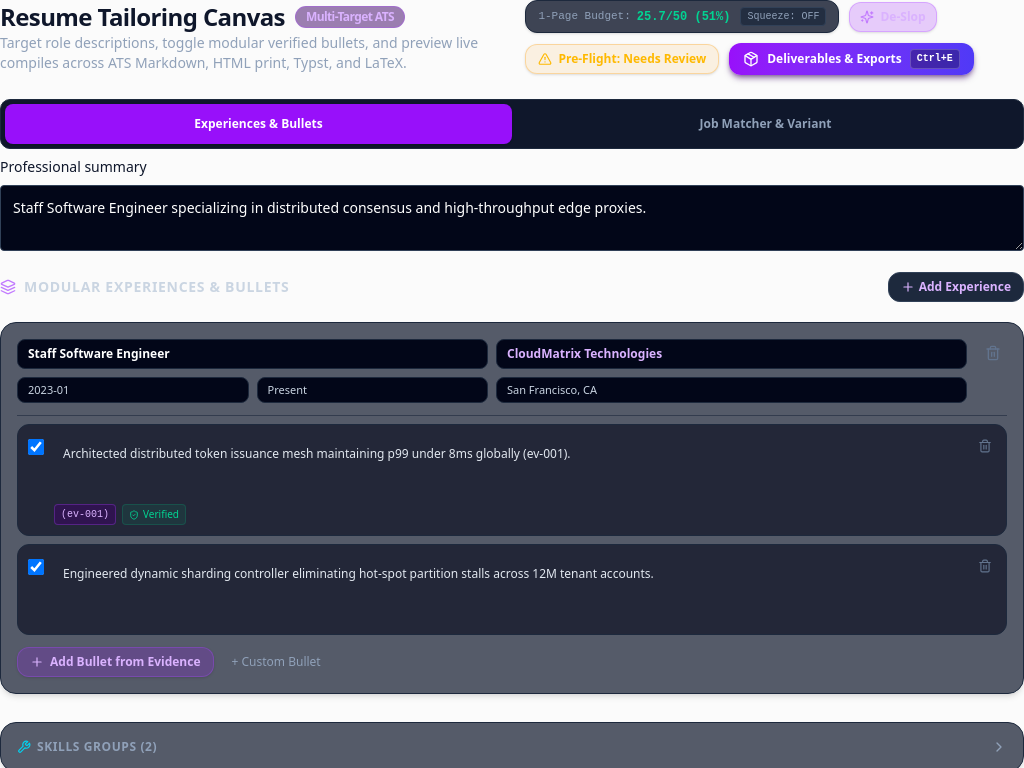
Test: Resume Tailor & Pre-Flight Gate Tests › Typst rendered preview › surfaces typst diagnostics when the document fails to compile
Click the button "Deliverables & Exports Ctrl+E".
click(851, 59)  # box [729,43,974,75]
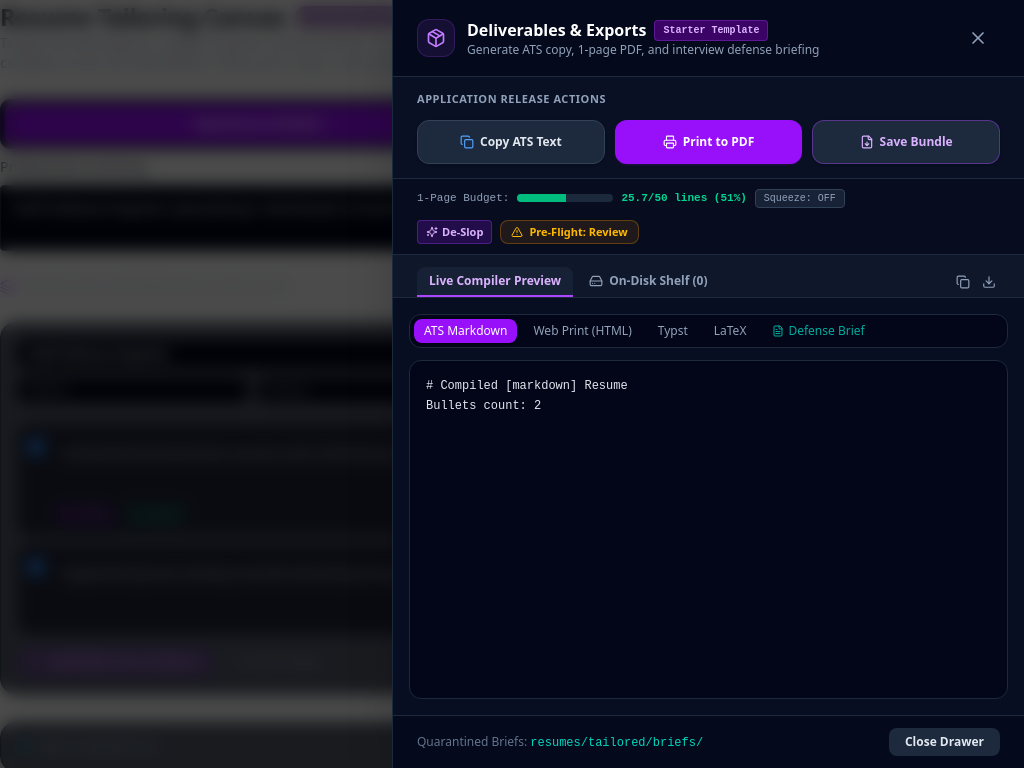
Result: the button "ATS Markdown" is shown at [414,320,517,344]
Click the button "Typst".
click(673, 332)  # box [648,320,698,344]
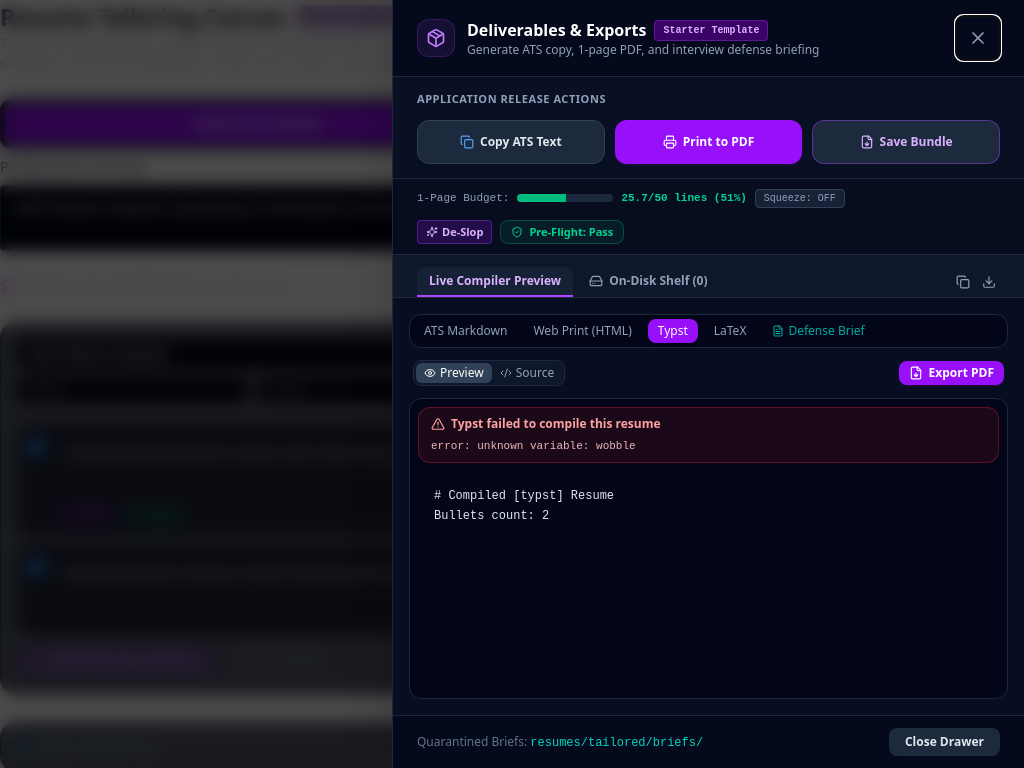
Result: the text "Typst failed to compile this resume" is shown at [431,416,661,432]
Result: the text "error: unknown variable: wobble" is shown at [431,440,636,452]
